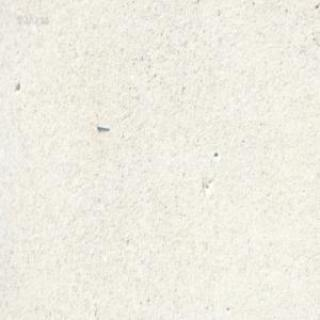Nailtrack_idkeyframe: (95, 121, 109, 130)
